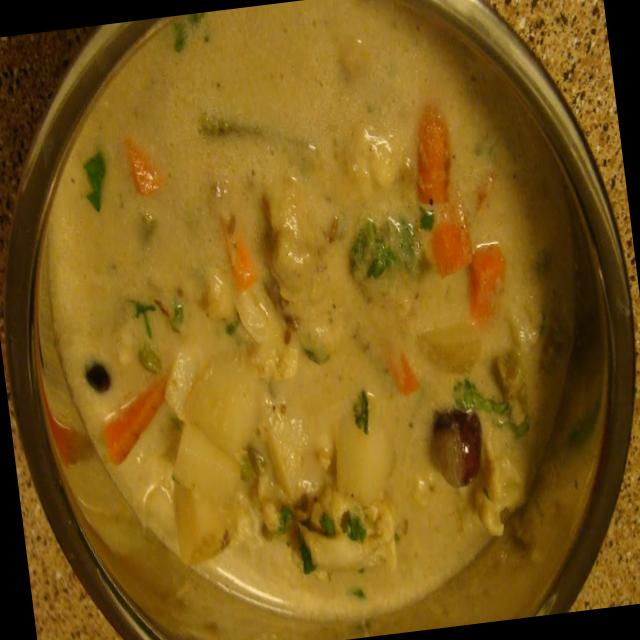ShahiPaneer: (12, 0, 619, 640)
